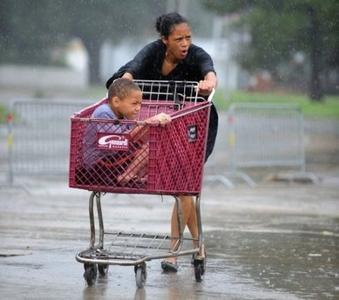person: (103, 10, 223, 276)
